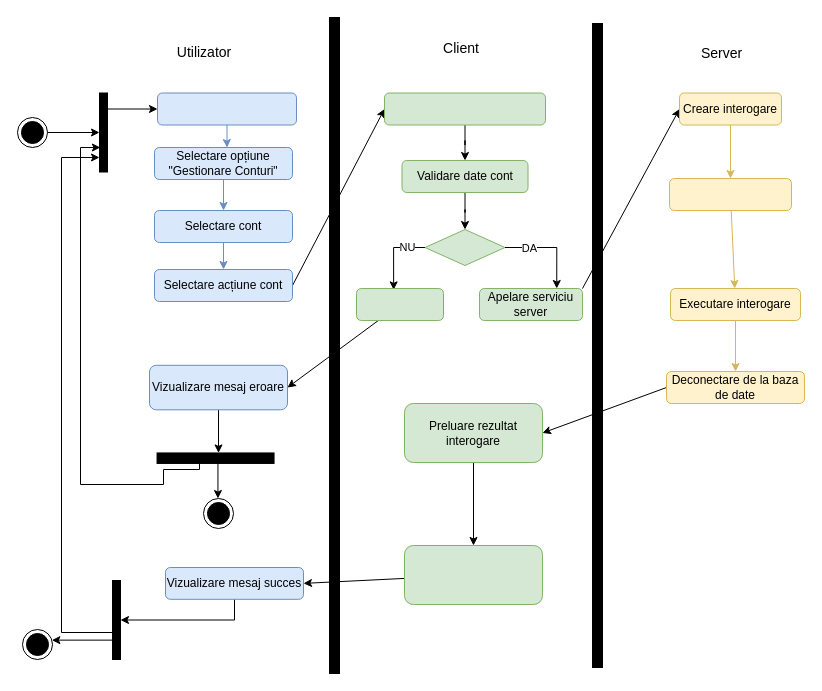
The diagram is 822 pixels wide and 691 high, and some of its shapes have lost their labels. The centre of each missing label's shape, as x and y in pixels:
Actualizare și salvare date cont: point 473,574
Afișare mesaj eroare: point 400,304
Autentificare în sistem: point 226,108
Conectare la baza de date: point 730,194
Preluare informații despre acțiune cont: point 465,108
